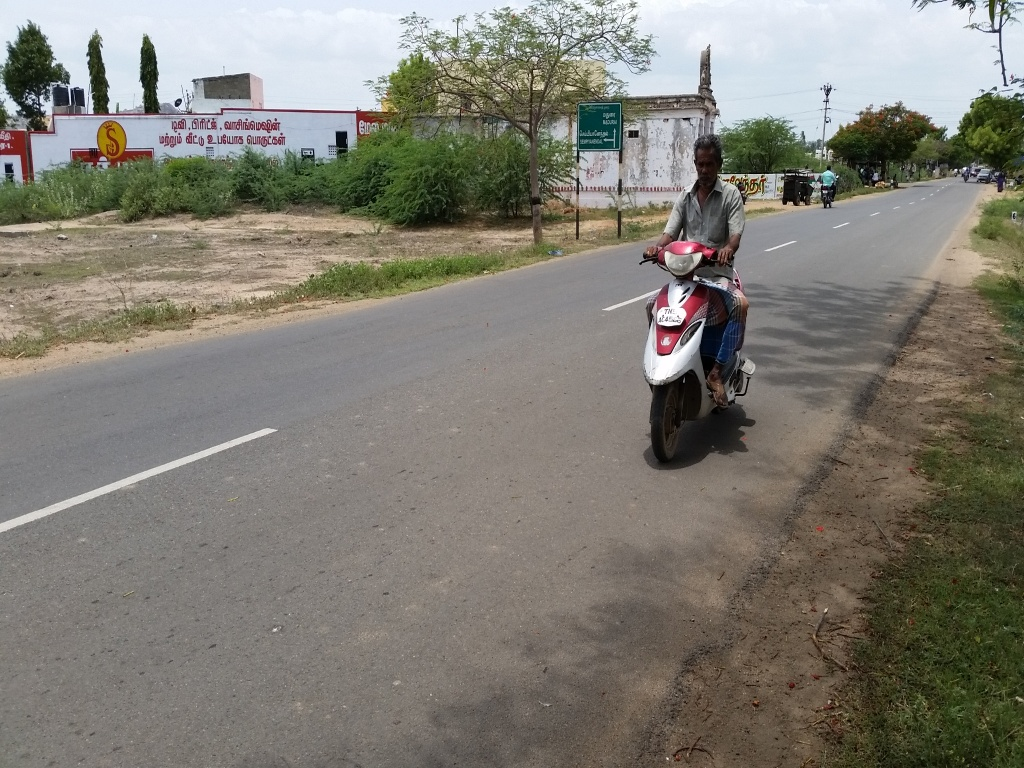biker: (615, 112, 790, 475)
nohelmet: (686, 131, 732, 197)
